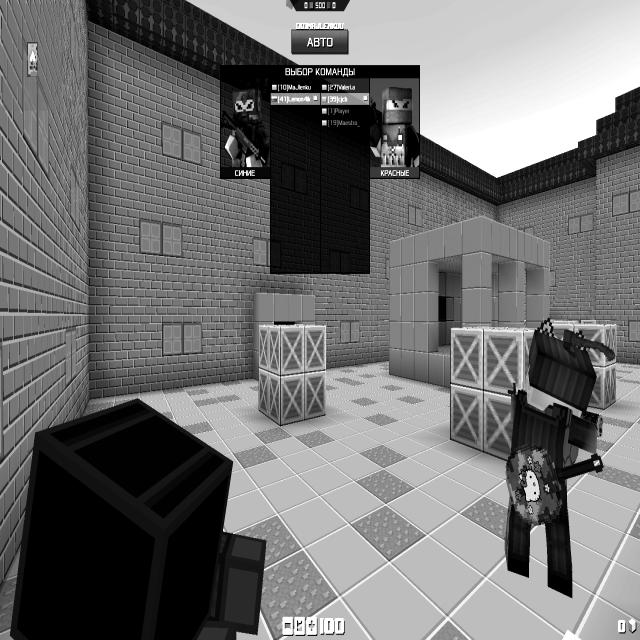Head: (10, 397, 267, 640), (528, 330, 596, 416), (381, 87, 413, 123), (232, 88, 262, 122)
Player: (506, 323, 606, 601), (370, 87, 420, 167), (225, 84, 270, 168)
